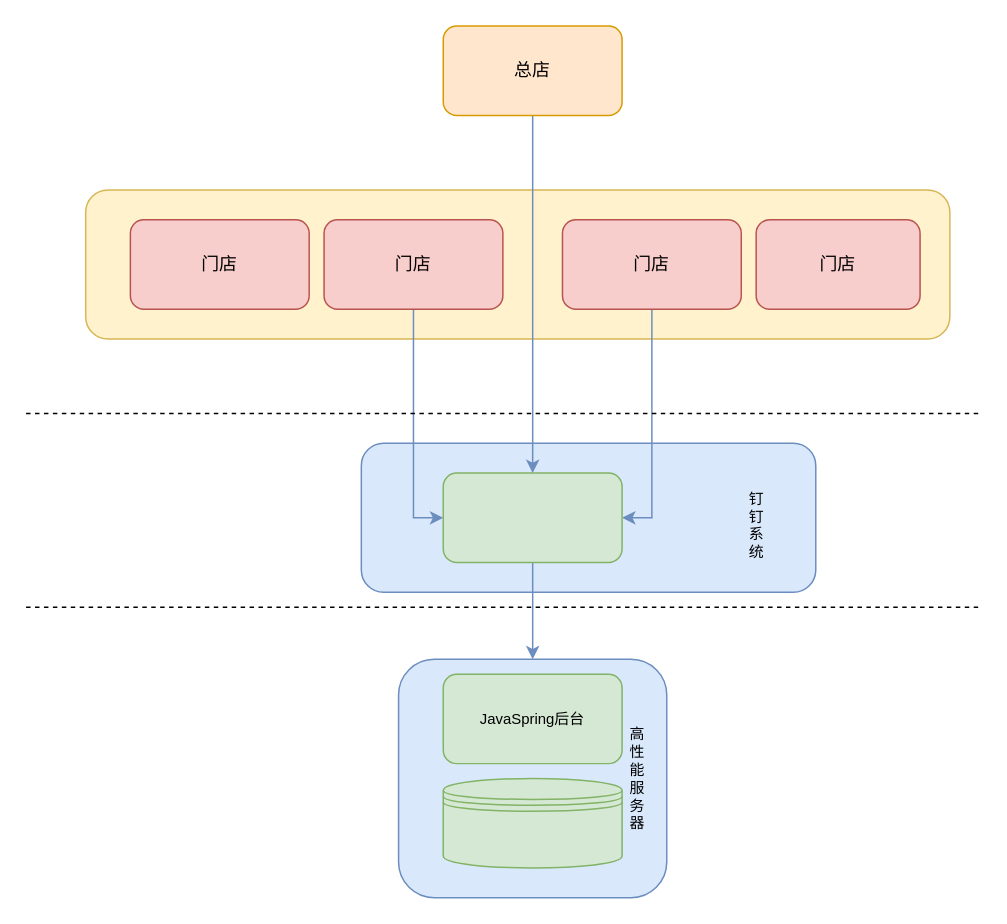
Some shapes in this 1007 by 924 pixel diagram are drawn without their labels. The shapes that lost their labels are listed below. From the top down, each one's centre as x and y in pixels, then its label:
the point at 532,517: JavaScript、CSS 前端
the point at 532,822: 数据仓库
